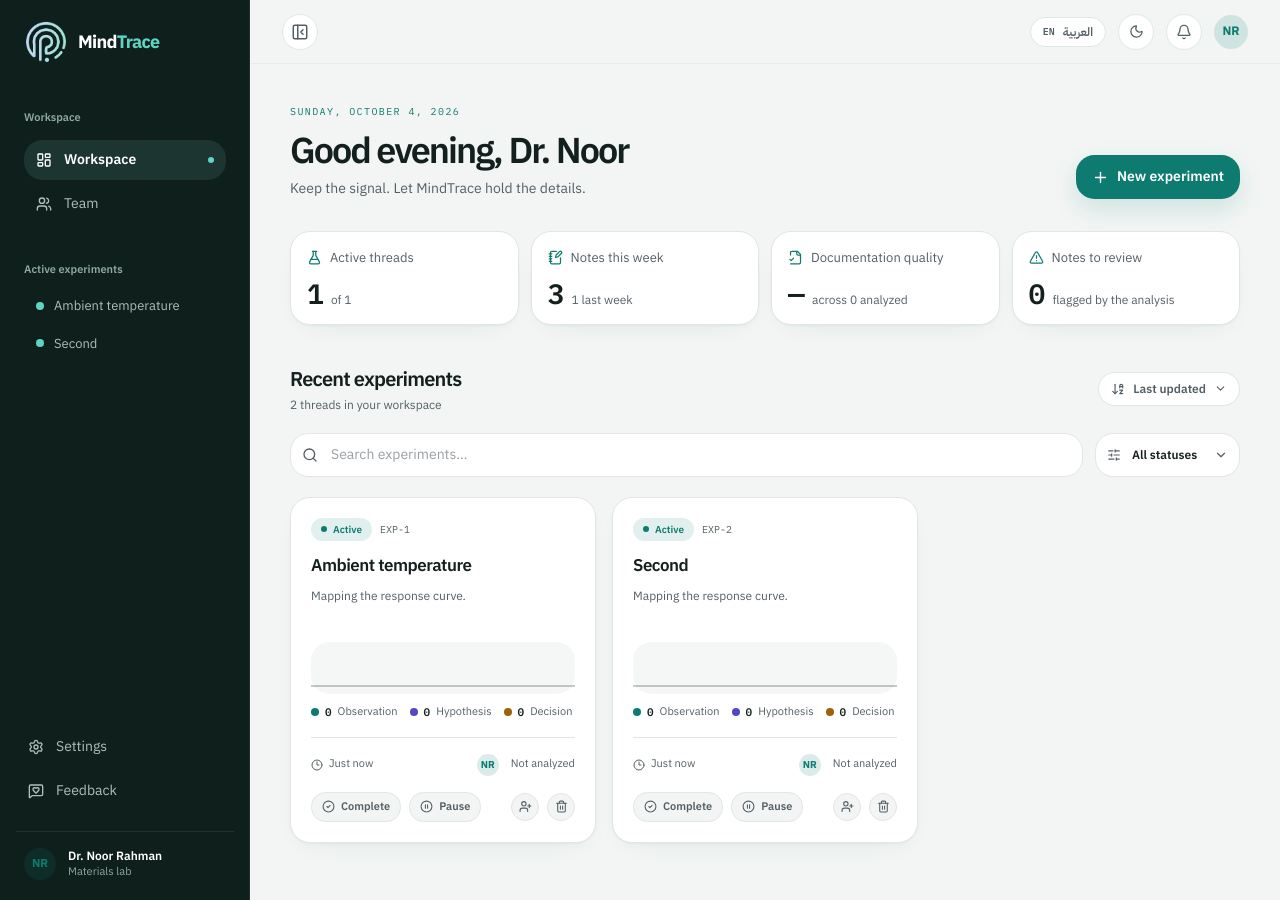
Test: experiment card › every card has an Add people button that opens the modal
This screenshot has width=1280, height=900.
Expected: the element with test id "card-experiment-2" is shown, [612,496,918,843]
Expected: the button with test id "button-add-people-1" is shown, [511,793,539,821]
Click the button named "Add people" below "EXP-2".
click(847, 807)  # box [833,793,861,821]
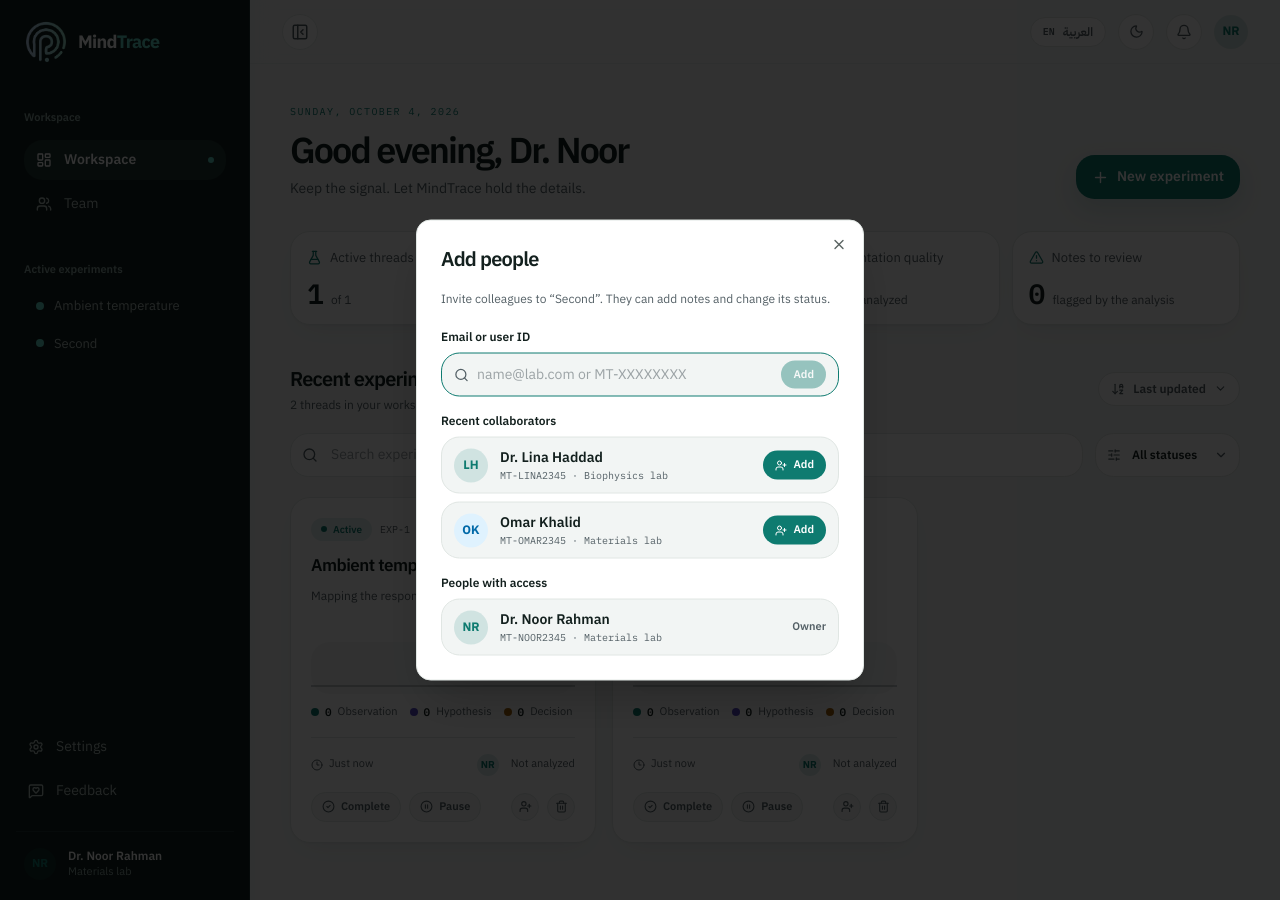
Expected: the dialog with test id "dialog-add-people" shows "Second", [441,290,830,308]
